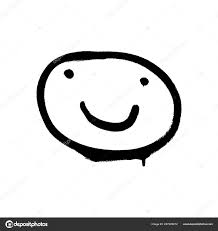feliz: (30, 41, 193, 170), (60, 66, 158, 136)
